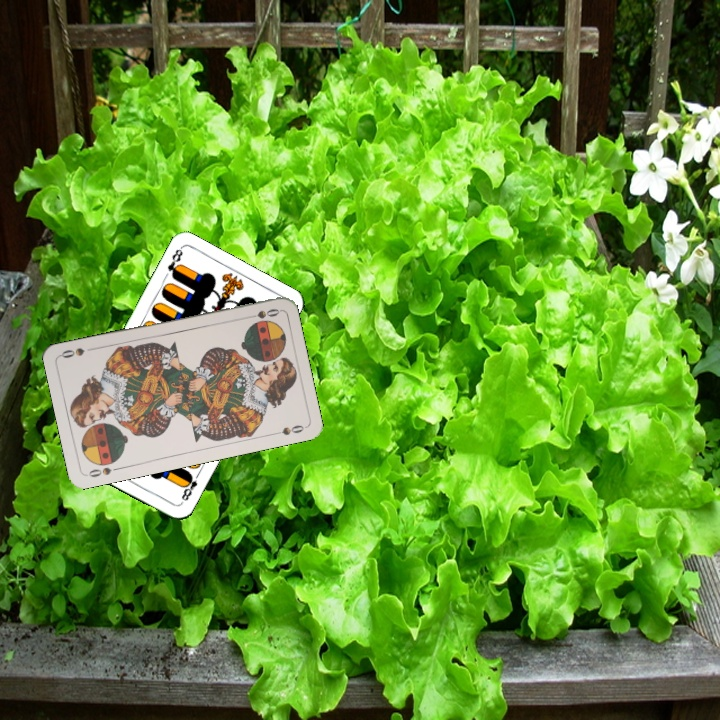E8: (177, 468, 202, 503), (163, 244, 185, 281)
SO: (242, 304, 282, 321), (83, 463, 123, 480)
